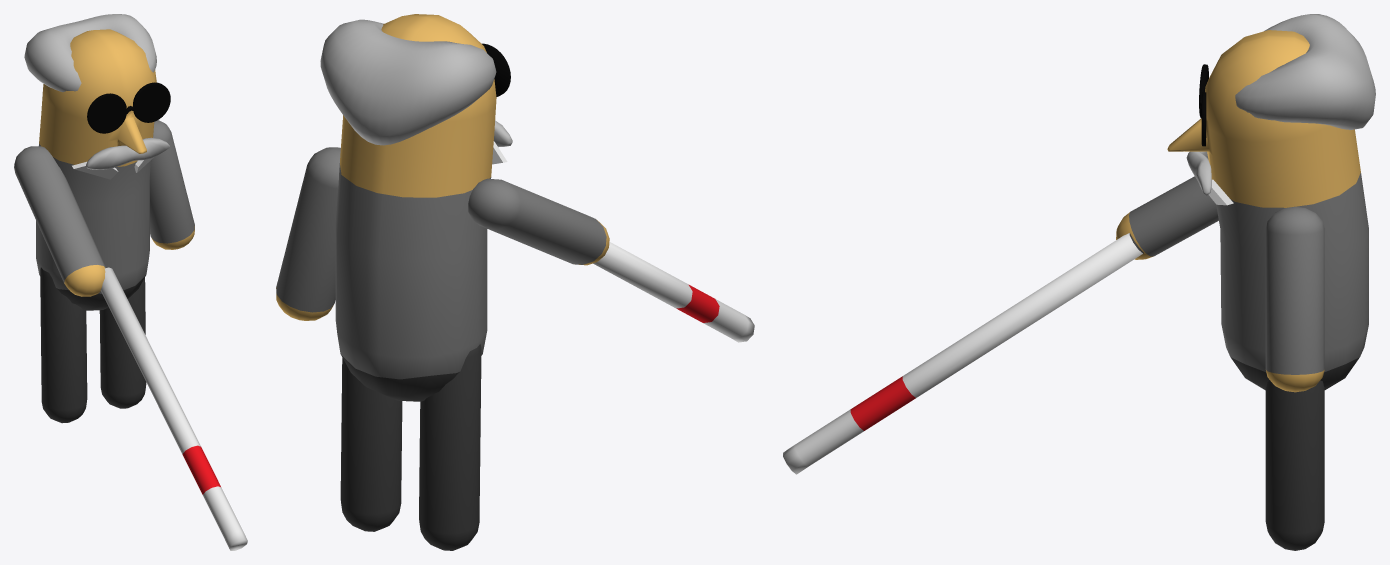
The model's file is Deda.fbx.
The picture shows the model from 3 angles, left to right: view 1: azimuth 30°, elevation 25°; view 2: azimuth 150°, elevation 25°; view 3: azimuth 270°, elevation 25°; orthographic projection. The views are drawn at different scales.
Visible parts, largest first — view 1: Torus, Roundcube.002, Roundcube.004, Roundcube.001, Roundcube.003, Plane; view 2: Torus, Roundcube.002, Roundcube.004, Roundcube.003, Roundcube.001; view 3: Torus, Roundcube.002, Roundcube.001, Roundcube.003.
Boxes of the visible parts, box(x1,y1,x2,y2) form: Torus: box(24, 14, 170, 310); Roundcube.002: box(14, 146, 247, 550); Roundcube.004: box(40, 267, 87, 423); Roundcube.001: box(150, 120, 194, 249); Roundcube.003: box(99, 278, 146, 408); Plane: box(72, 157, 153, 179); Torus: box(320, 14, 512, 401); Roundcube.002: box(468, 178, 754, 342); Roundcube.004: box(419, 344, 481, 550); Roundcube.003: box(340, 358, 402, 531); Roundcube.001: box(276, 147, 340, 320); Torus: box(1167, 14, 1375, 390); Roundcube.002: box(783, 176, 1218, 474); Roundcube.001: box(1265, 206, 1324, 392); Roundcube.003: box(1265, 380, 1324, 550).
Bounding box in the file's own units: 186 × 368 × 401.
